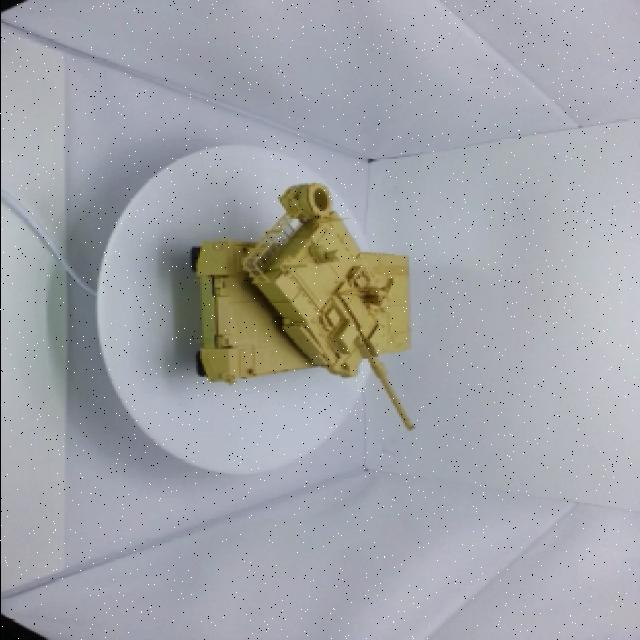korea tank: (166, 160, 460, 489)
